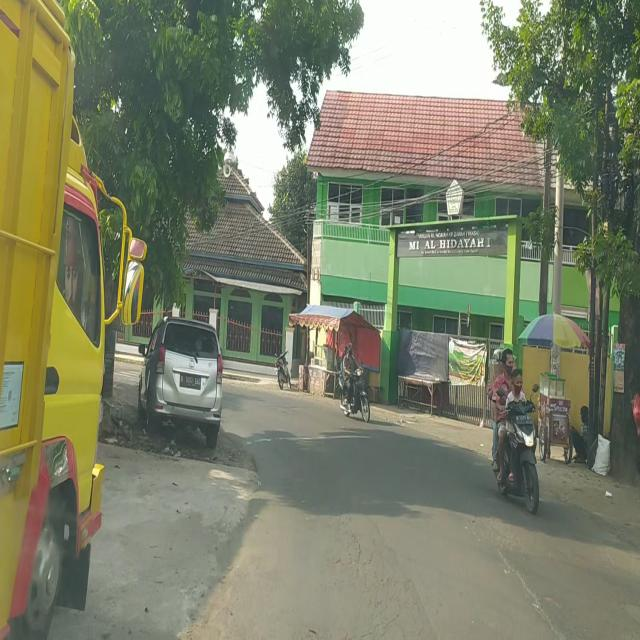Drain Hole: (325, 520, 403, 640)
